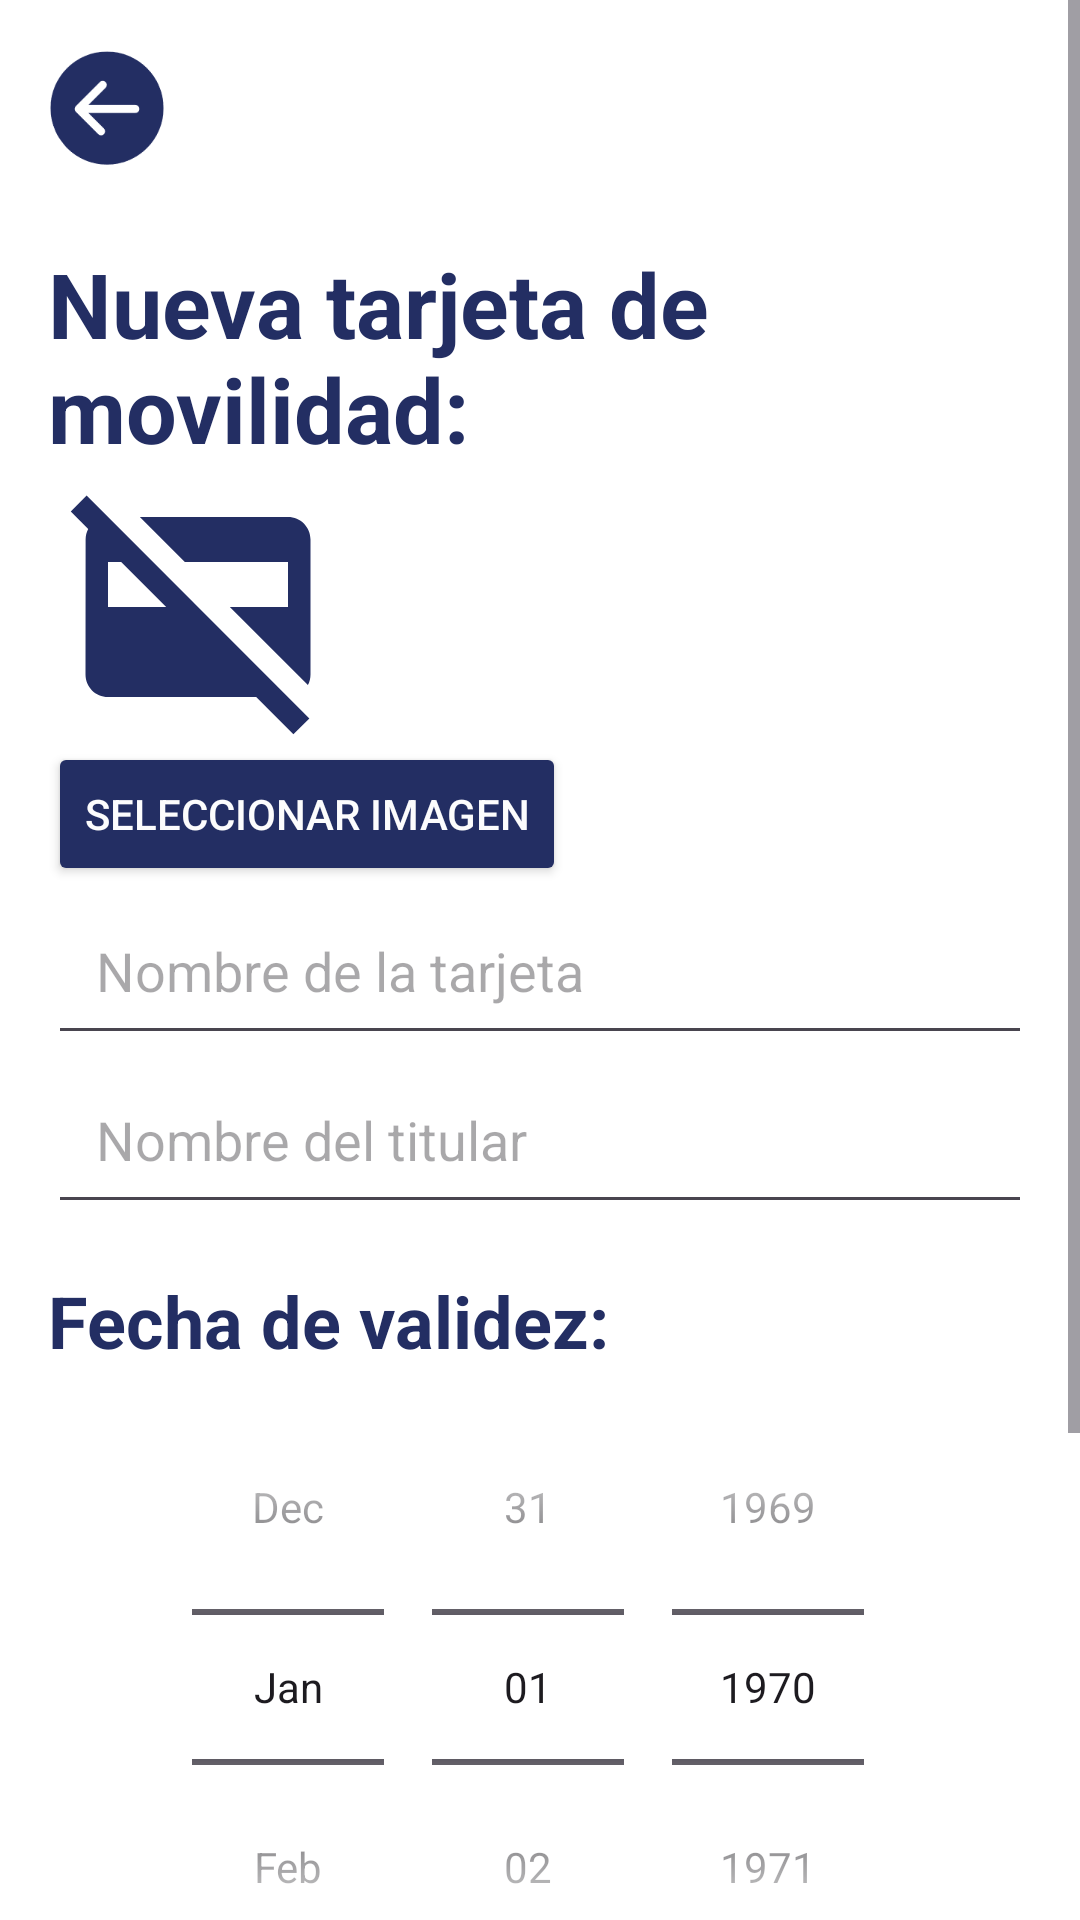

Screen size 1080px×1920px. Icon name, then its center in pixels as (x=x, y=y):
credit card off: (x=191, y=614)
goback: (x=107, y=108)
